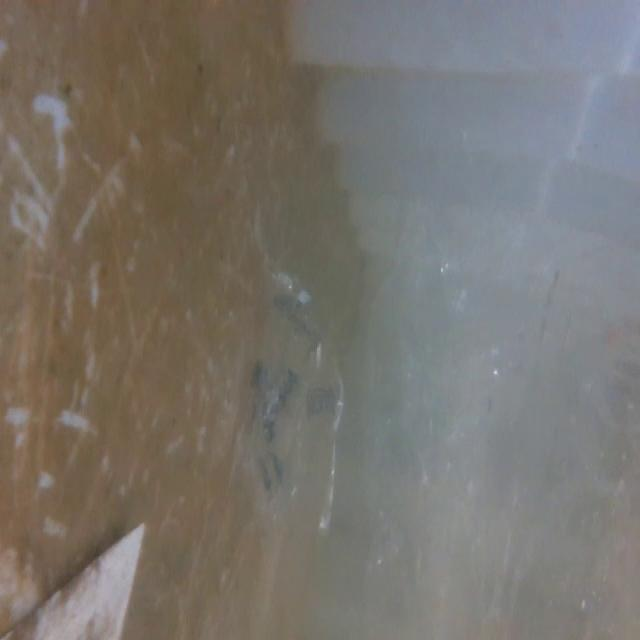metal: (0, 520, 171, 640)
plastic bags: (365, 120, 622, 640), (244, 265, 340, 539)
